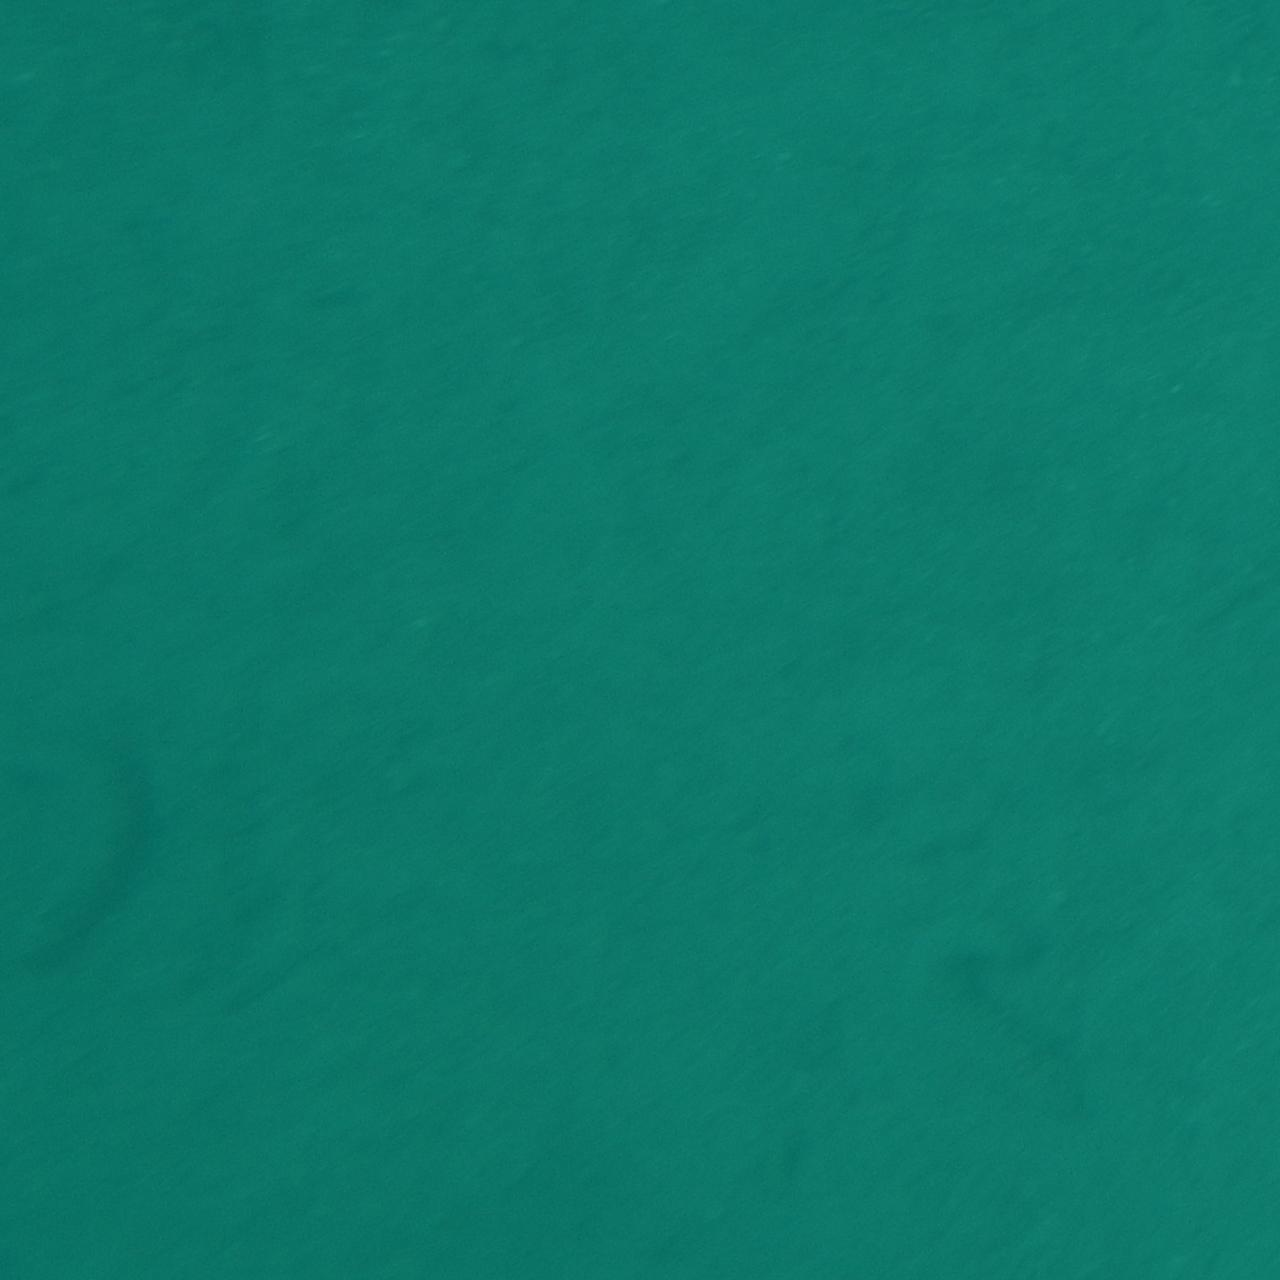Holothuria tubulosa: (0, 685, 189, 1026)
